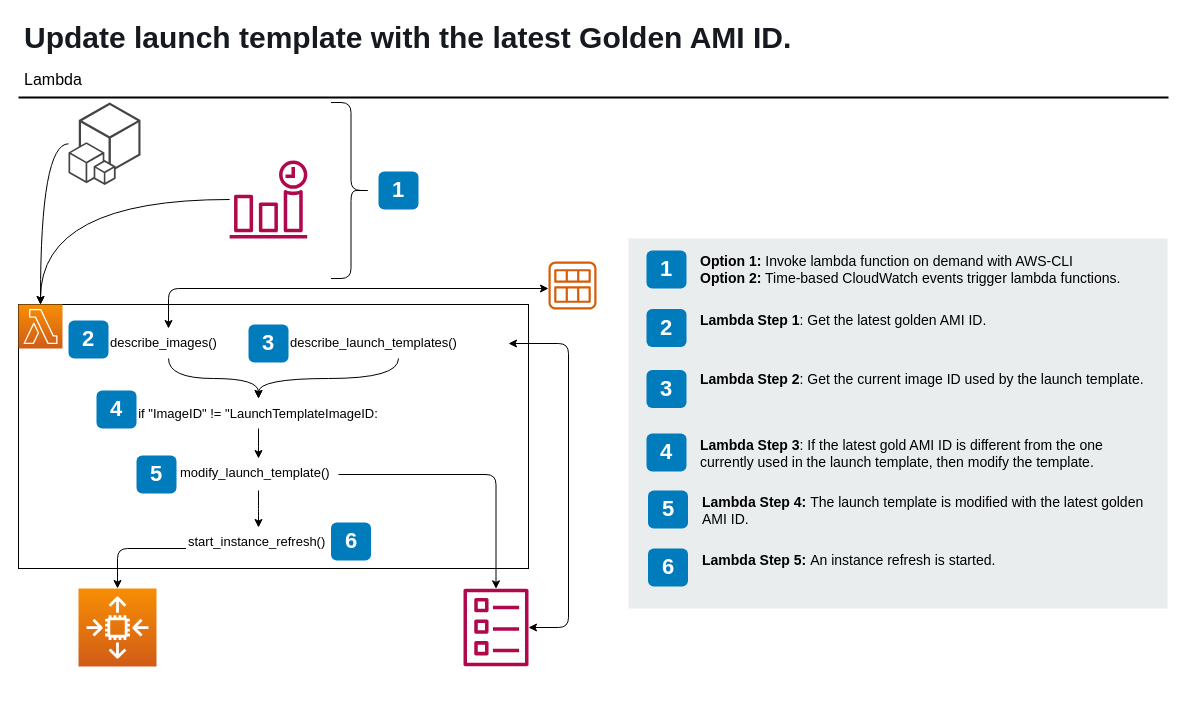
Image size: 1186x704. Some labels were removed from this diagram. The box of each missing label's shape, as (x1, y1, x2, y2) in pixels:
AMI: (548, 261, 596, 309)
Auto Scaling Group: (78, 588, 156, 666)
AWS CLI: (68, 102, 140, 185)
CloudWatch (Time-Based Event): (229, 160, 307, 238)
Launch Template: (463, 588, 528, 666)
